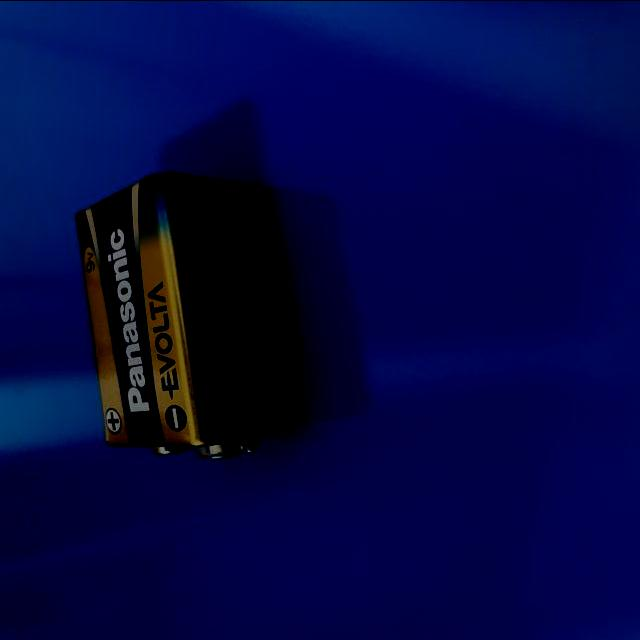9V: (73, 169, 294, 456)
